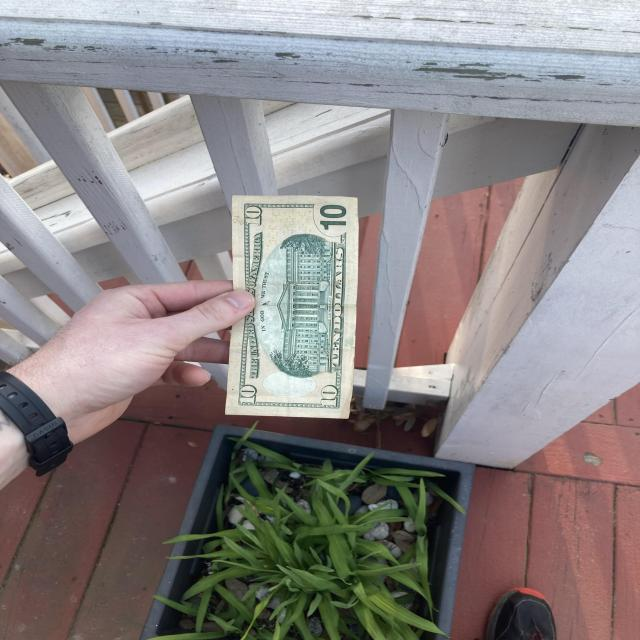ten: (231, 195, 359, 419)
